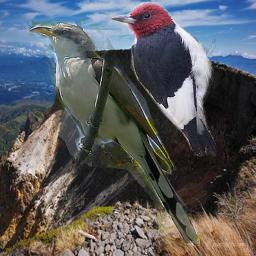Cuckoo: (29, 21, 200, 246)
Woodpecker: (110, 2, 216, 157)
